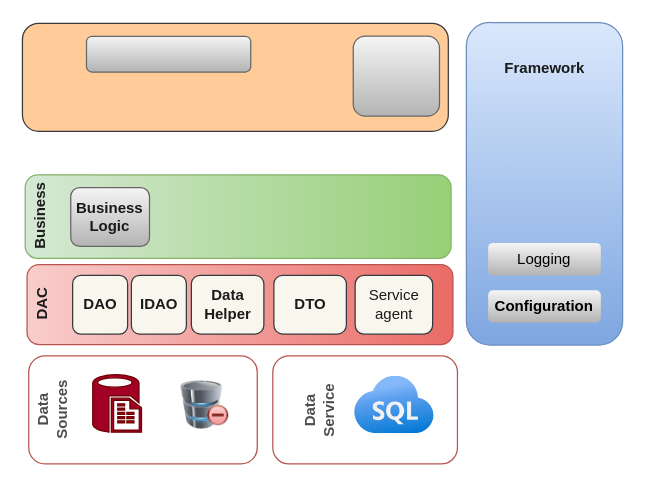
The diagram is 645 pixels wide and 486 high, and some of its shapes have lost their labels. Here are the shapes that lost their labels. From the top down, the centre of each, then its label:
pixel 168 53: UI Component
pixel 234 76: User Interface
pixel 396 75: External Systems
pixel 117 402: SQLITE
pixel 204 404: database
